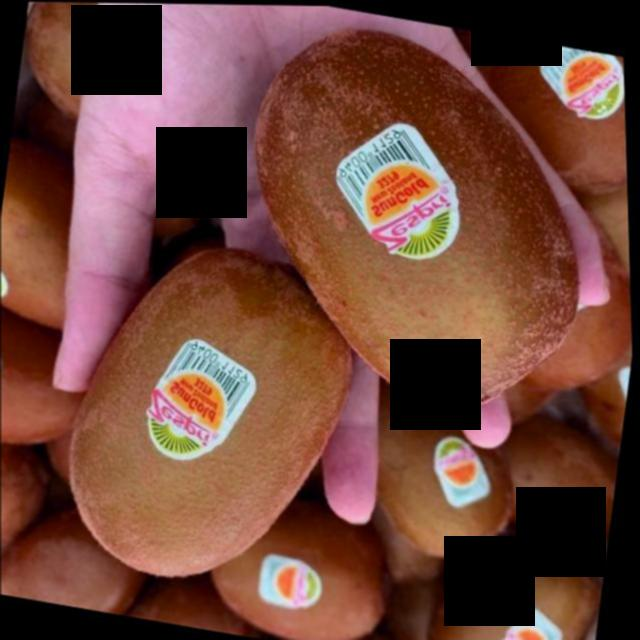kiwi: (215, 10, 621, 429), (46, 226, 375, 607), (348, 392, 530, 567), (420, 522, 605, 640)
